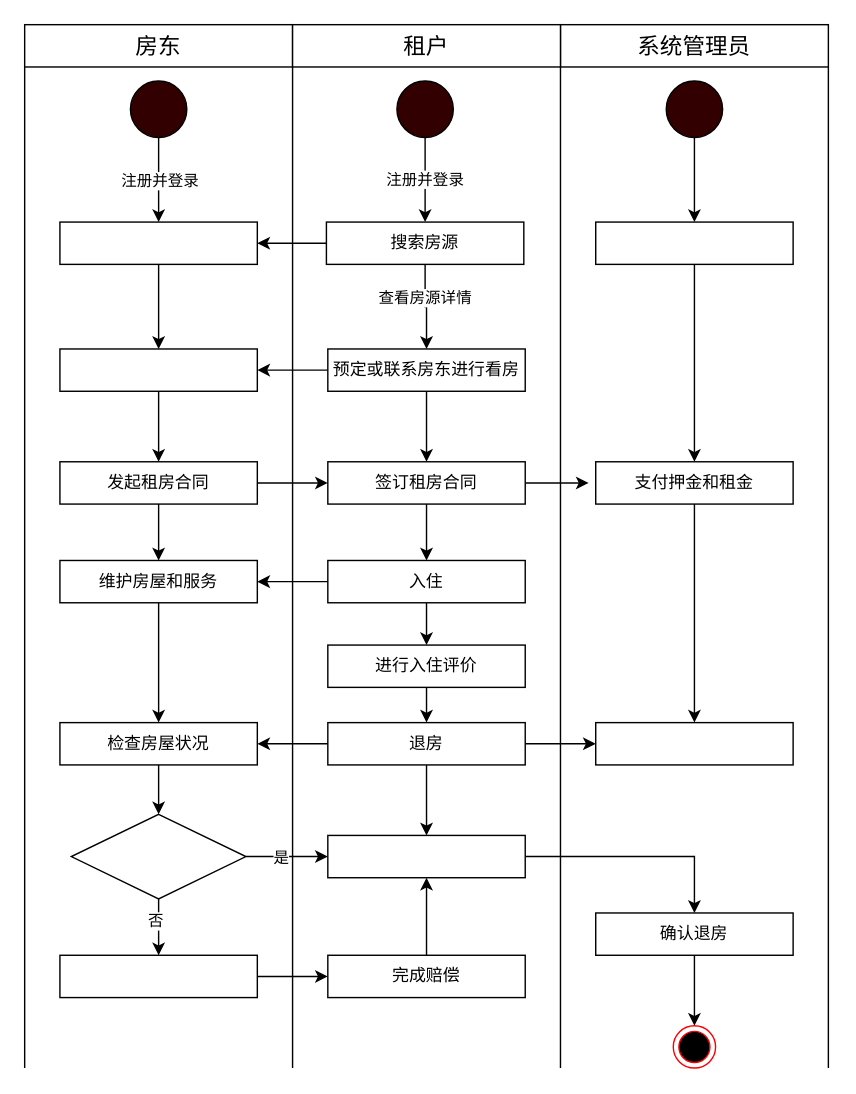
This 856x1094 diagram has some shape labels left out. The shapes that lost their labels are listed below. From the top down, each one's centre as x and y in pixels, then its label:
At (x=158, y=242): "发布房源".
At (x=693, y=242): "维护系统运转".
At (x=158, y=369): "陪同租户看房".
At (x=693, y=743): "发送退房通知给房东".
At (x=158, y=856): "房屋状况是否良好".
At (x=425, y=856): "终止合同".
At (x=158, y=976): "扣留租户押金，并根据损失情况向租户索取赔偿".
